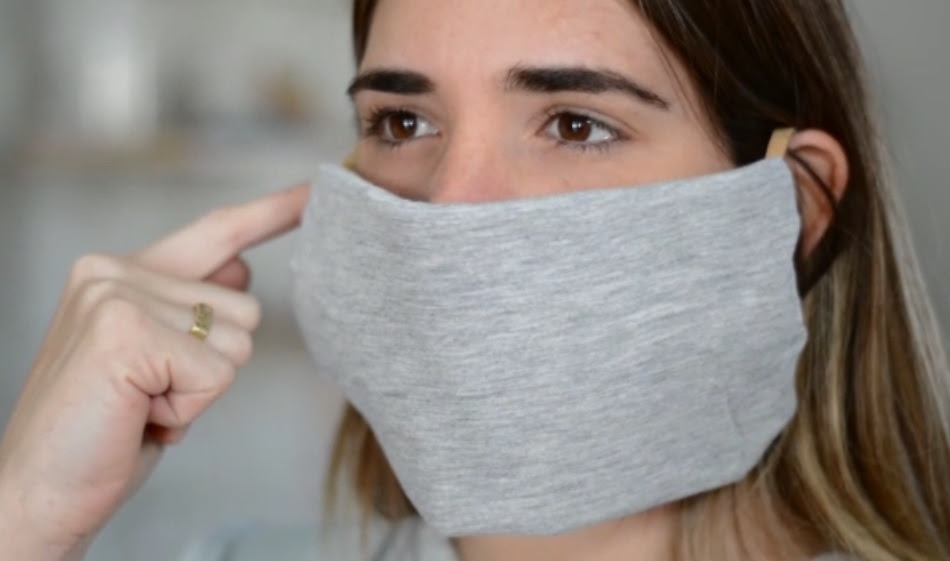barbijo: (275, 128, 840, 526)
